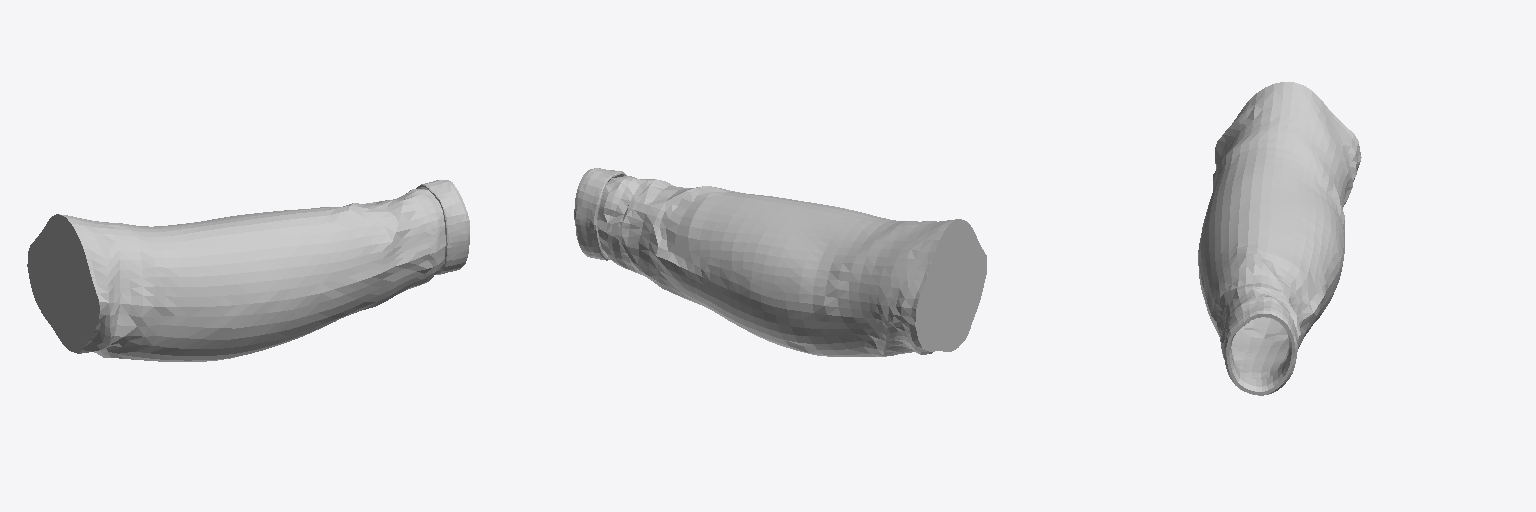
File: calf_r.obj
3 renders of one model, left to right at view 1: azimuth 30°, elevation 25°; view 2: azimuth 150°, elevation 25°; view 3: azimuth 270°, elevation 25°, orthographic.
Visible parts, largest first — view 1: lowerleg_r_1_Legs_UV1.011; view 2: lowerleg_r_1_Legs_UV1.011; view 3: lowerleg_r_1_Legs_UV1.011.
Part boxes in pixels (bbox=[...]): lowerleg_r_1_Legs_UV1.011: bbox=[27, 180, 469, 361]; lowerleg_r_1_Legs_UV1.011: bbox=[574, 168, 986, 356]; lowerleg_r_1_Legs_UV1.011: bbox=[1198, 82, 1361, 395].
Size of the model in its own units: 0.3213 by 0.1349 by 0.121.